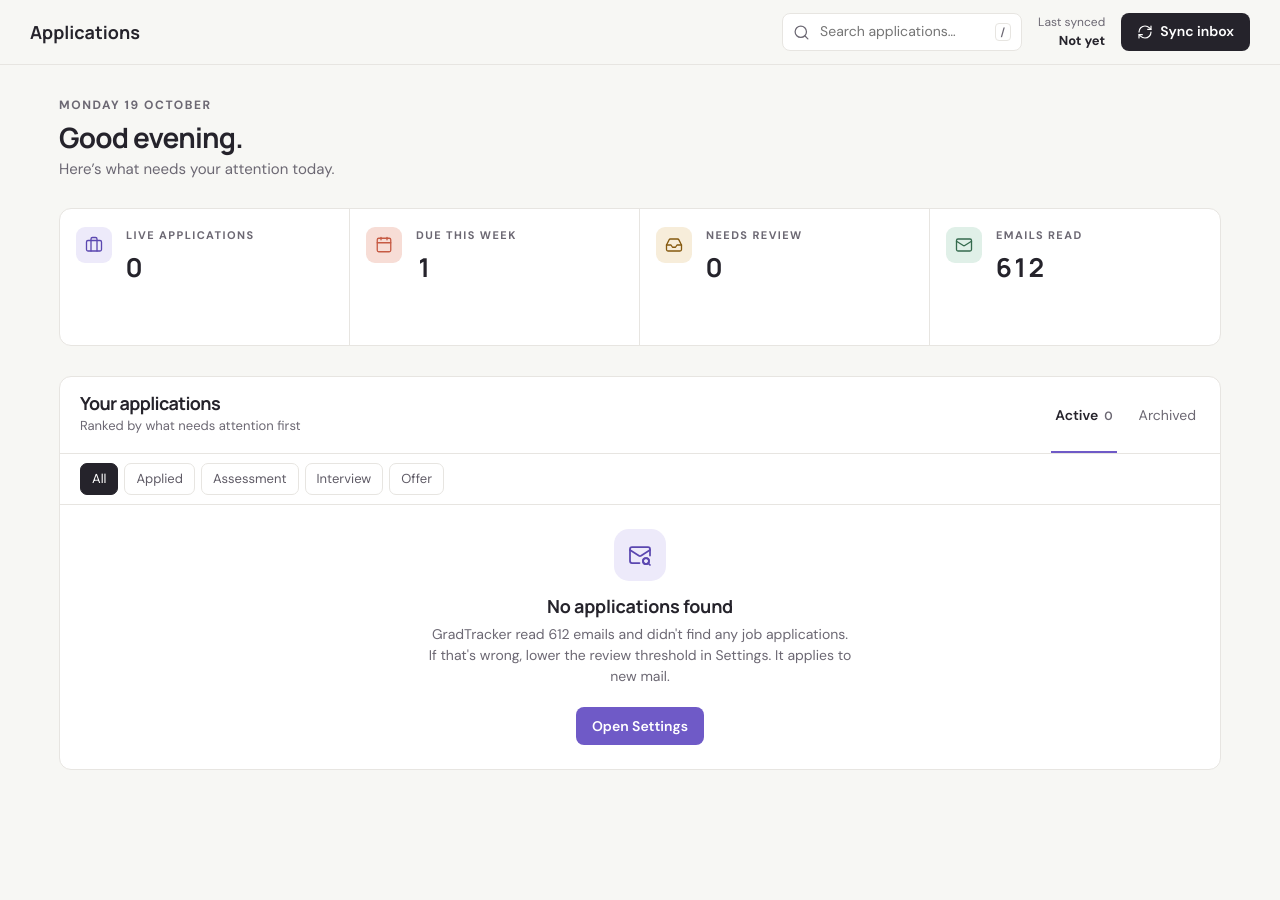
PipelineView › distinguishes an empty pipeline from a too-narrow filter
Expected: the heading "No applications found" is shown, left=547, top=597, right=733, bottom=616
Click the button "Offer".
click(417, 479)  # box left=389, top=462, right=444, bottom=495
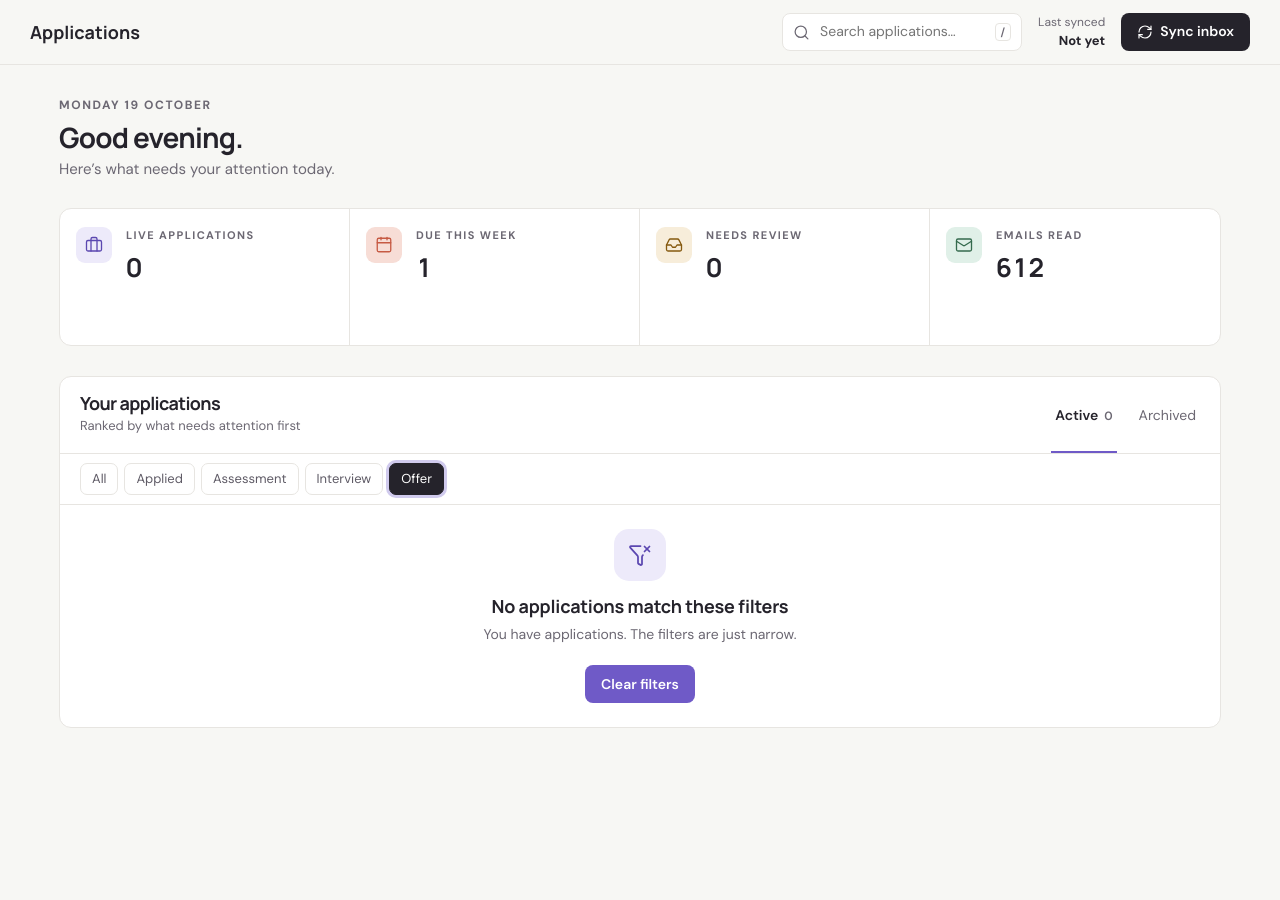
Expected: the heading "No applications match these filters" is shown, left=492, top=597, right=788, bottom=616
